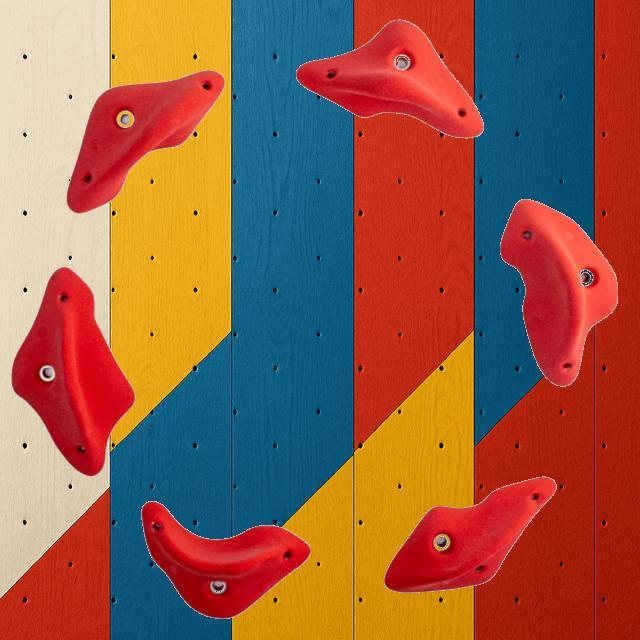Pinch: (10, 266, 134, 476), (65, 68, 225, 214), (294, 18, 483, 138), (498, 198, 618, 386), (383, 475, 557, 593), (140, 499, 310, 619)
